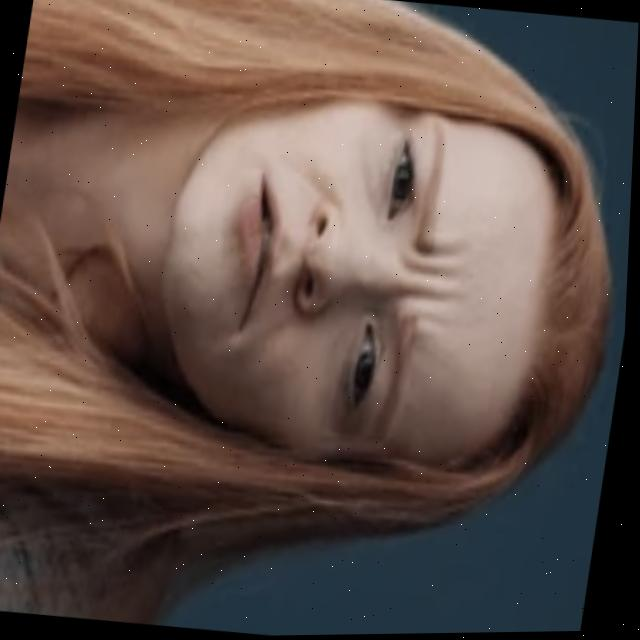angry: (199, 81, 502, 459)
